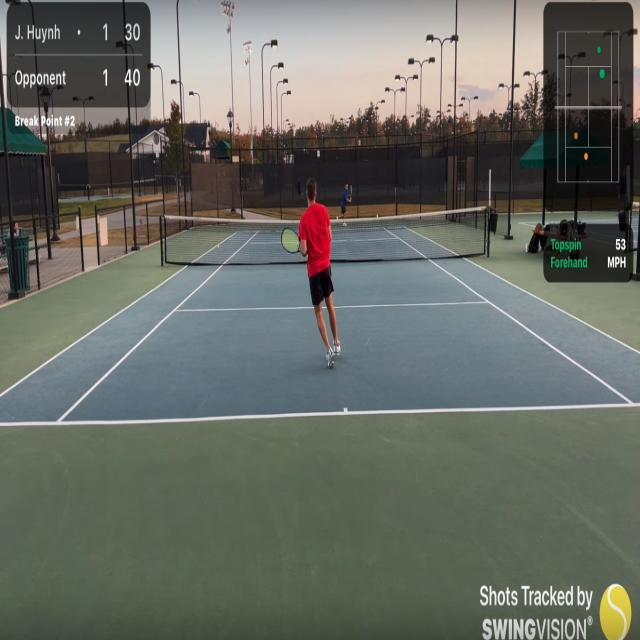ball: (376, 214, 378, 220)
